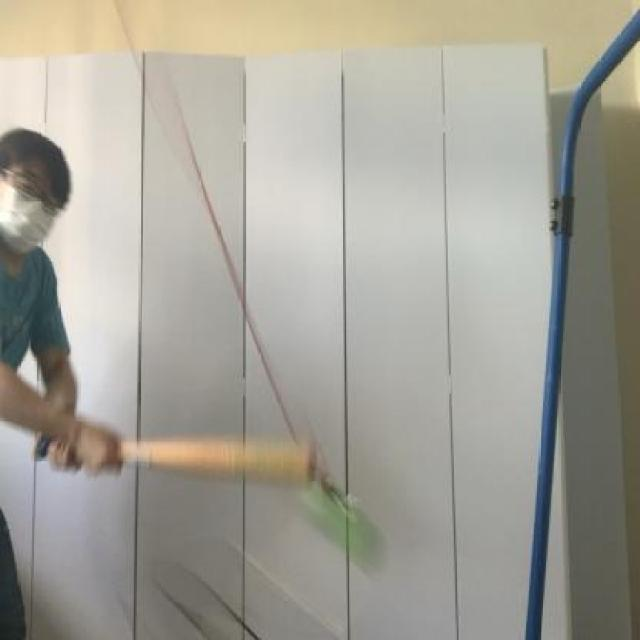baseball: (294, 474, 392, 584)
